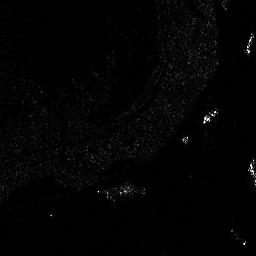ship: (199, 110, 220, 124)
